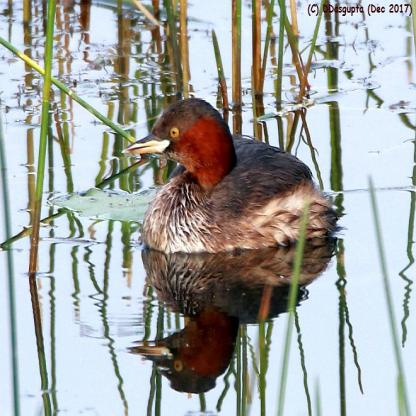Burung: (121, 98, 340, 252)
